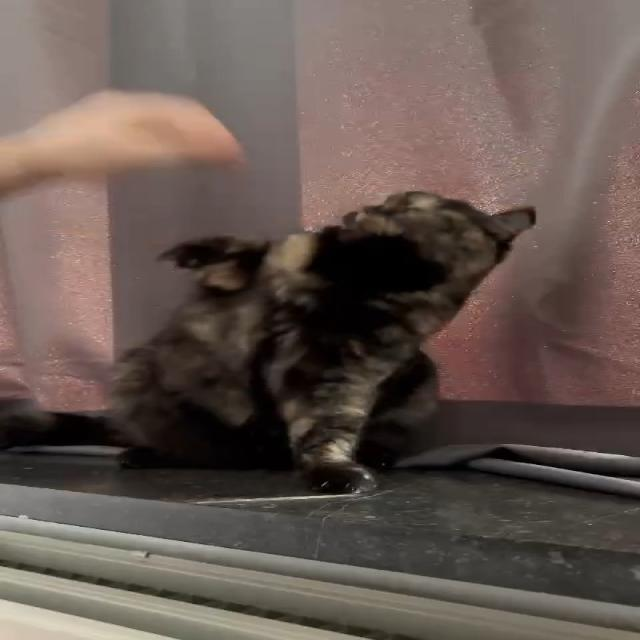authorized: (101, 189, 538, 494)
